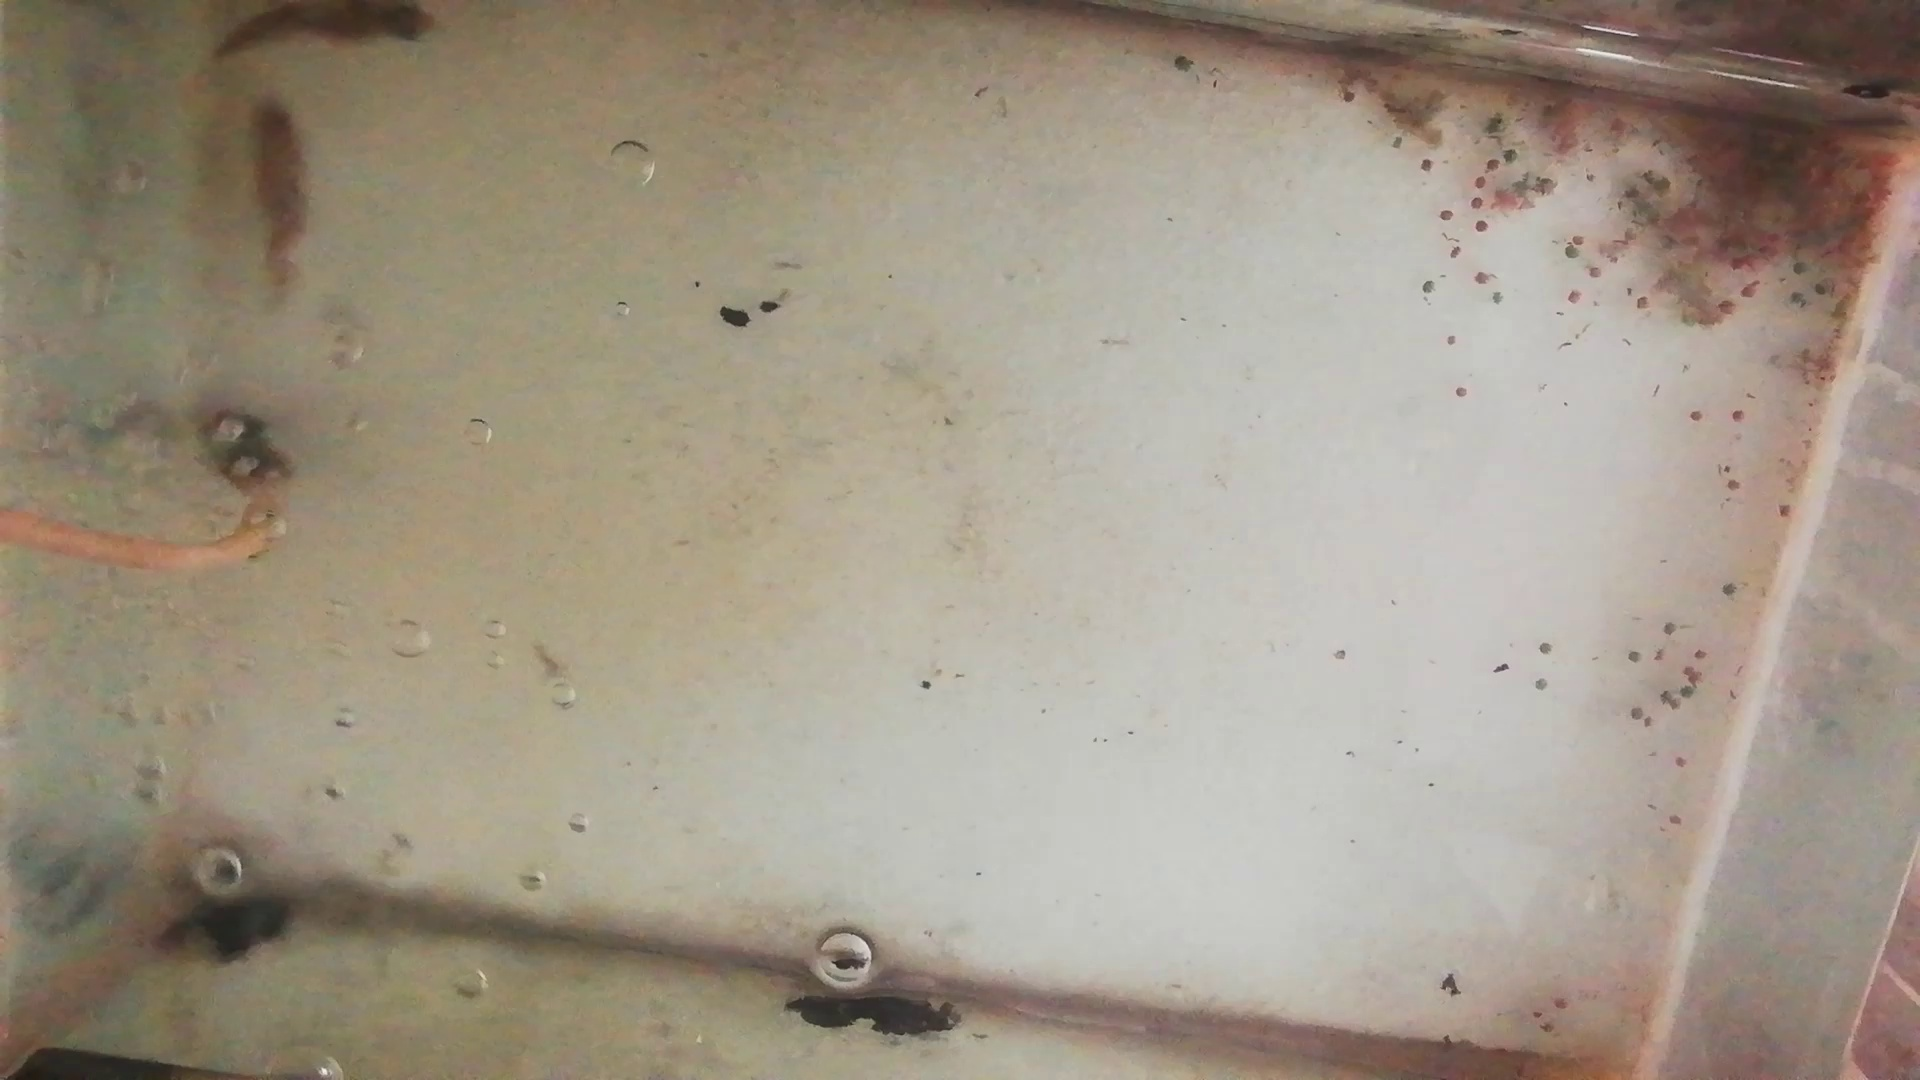fish: (247, 92, 309, 295), (208, 4, 440, 58)
